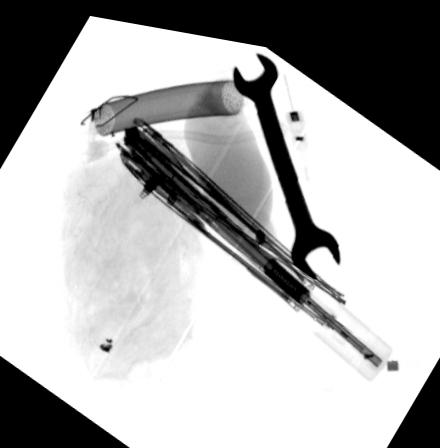Wrench: (234, 40, 341, 271)
